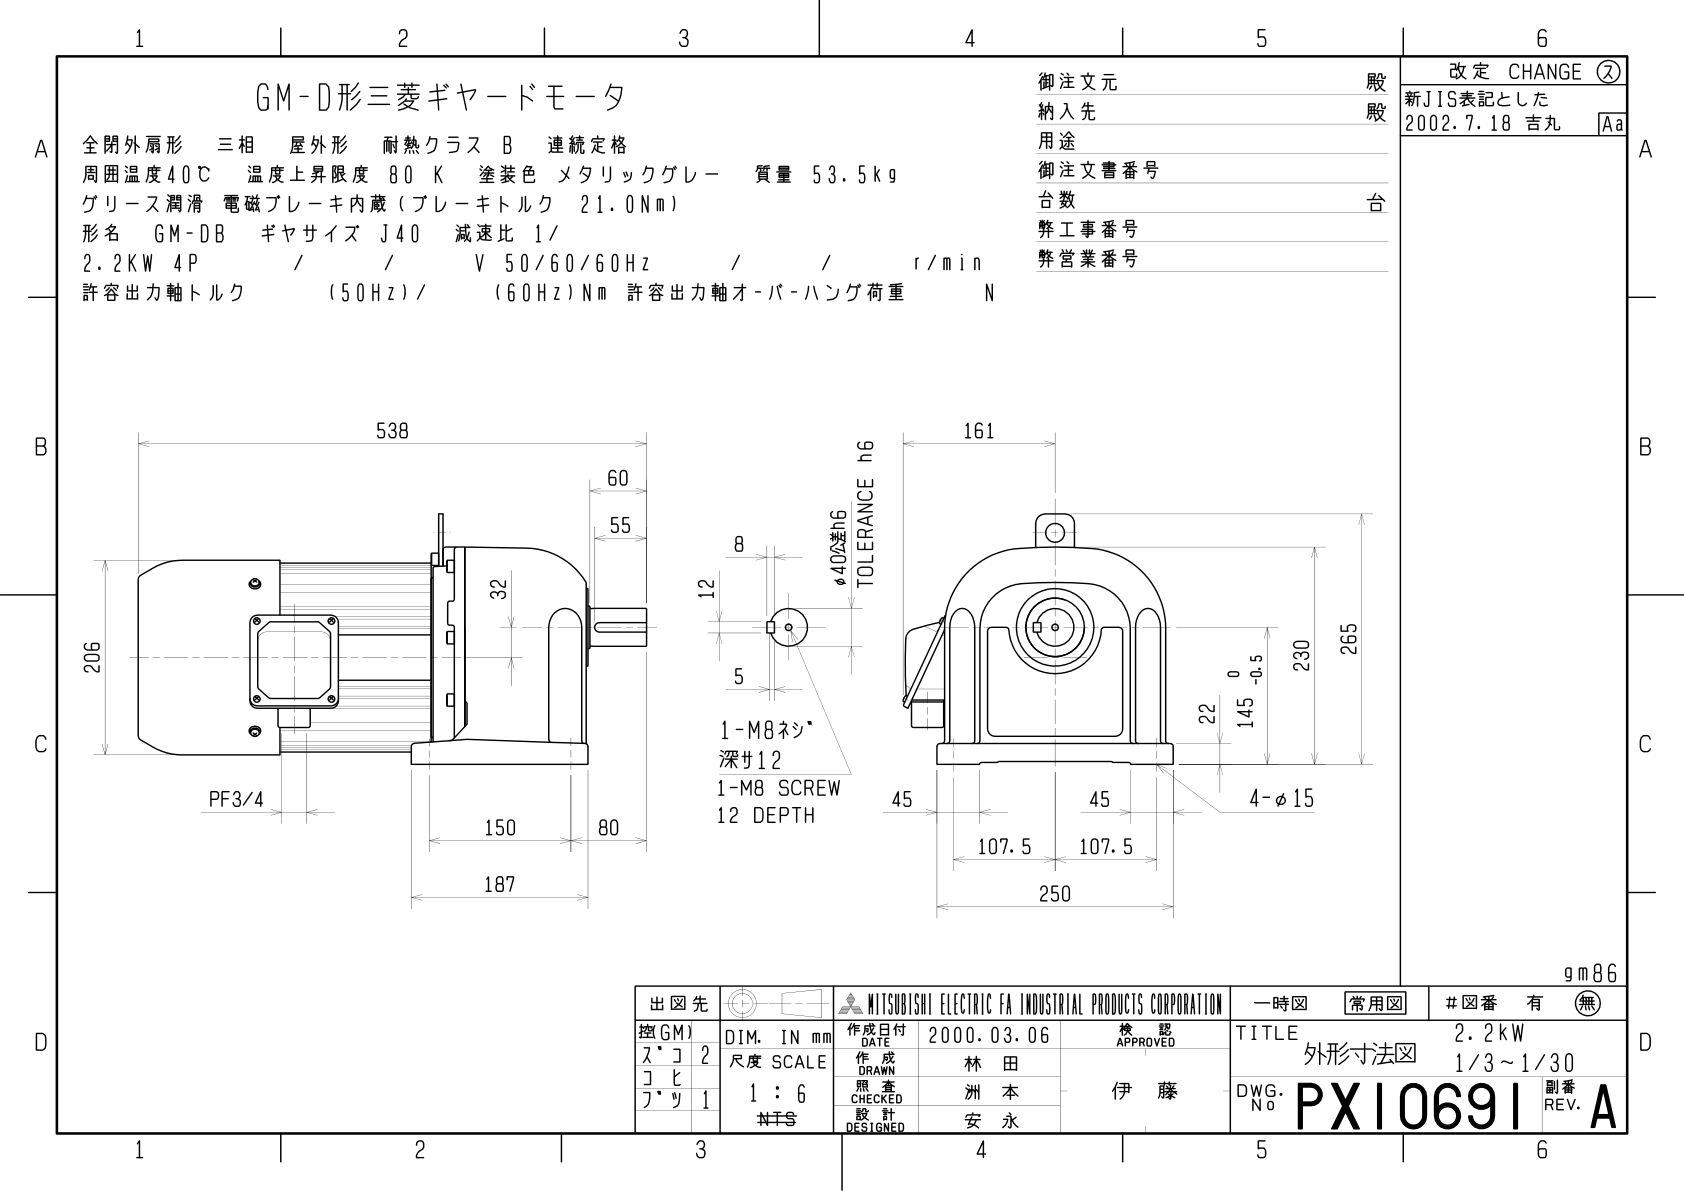GM_D_屋外＿三相_脚: (1, 1, 1674, 1181)
